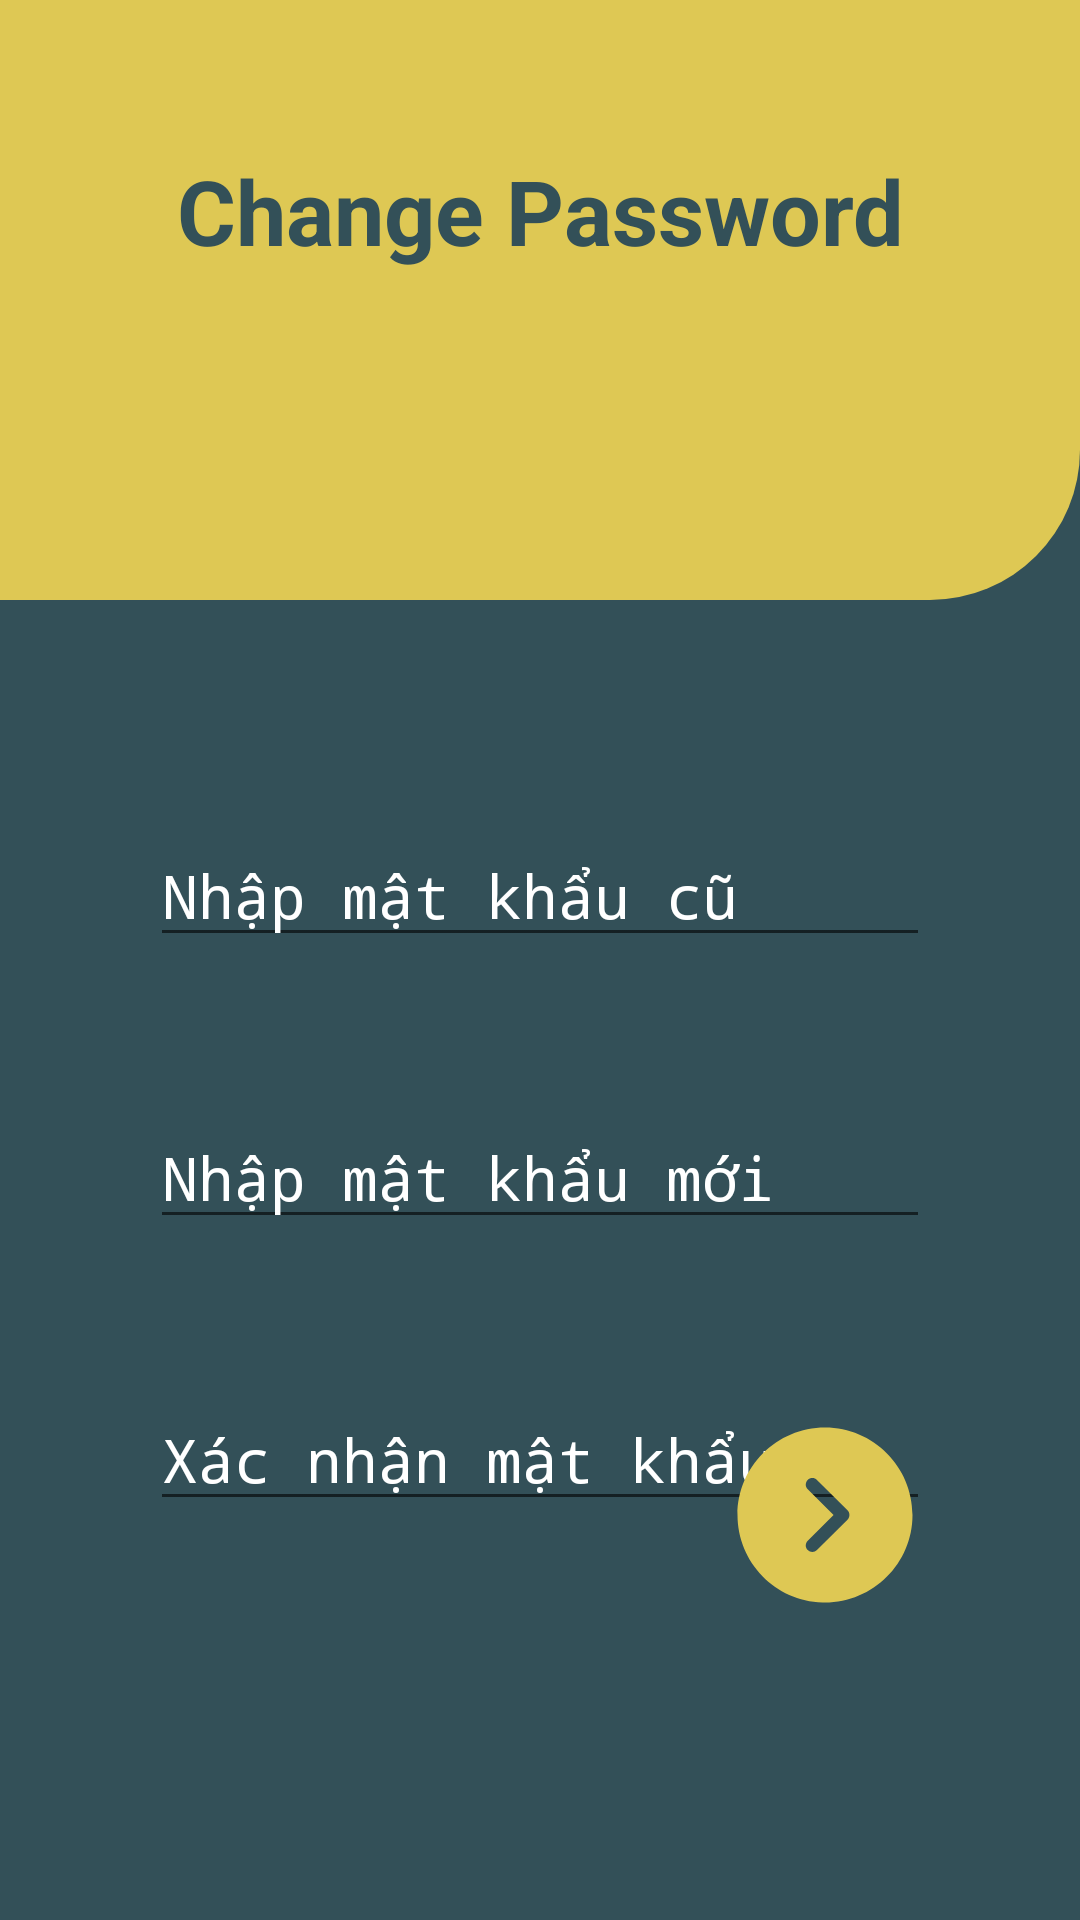

Screen size 1080*1920. Icon name, then its center in pixels as (x,y):
arrow right circle: (819,1515)
